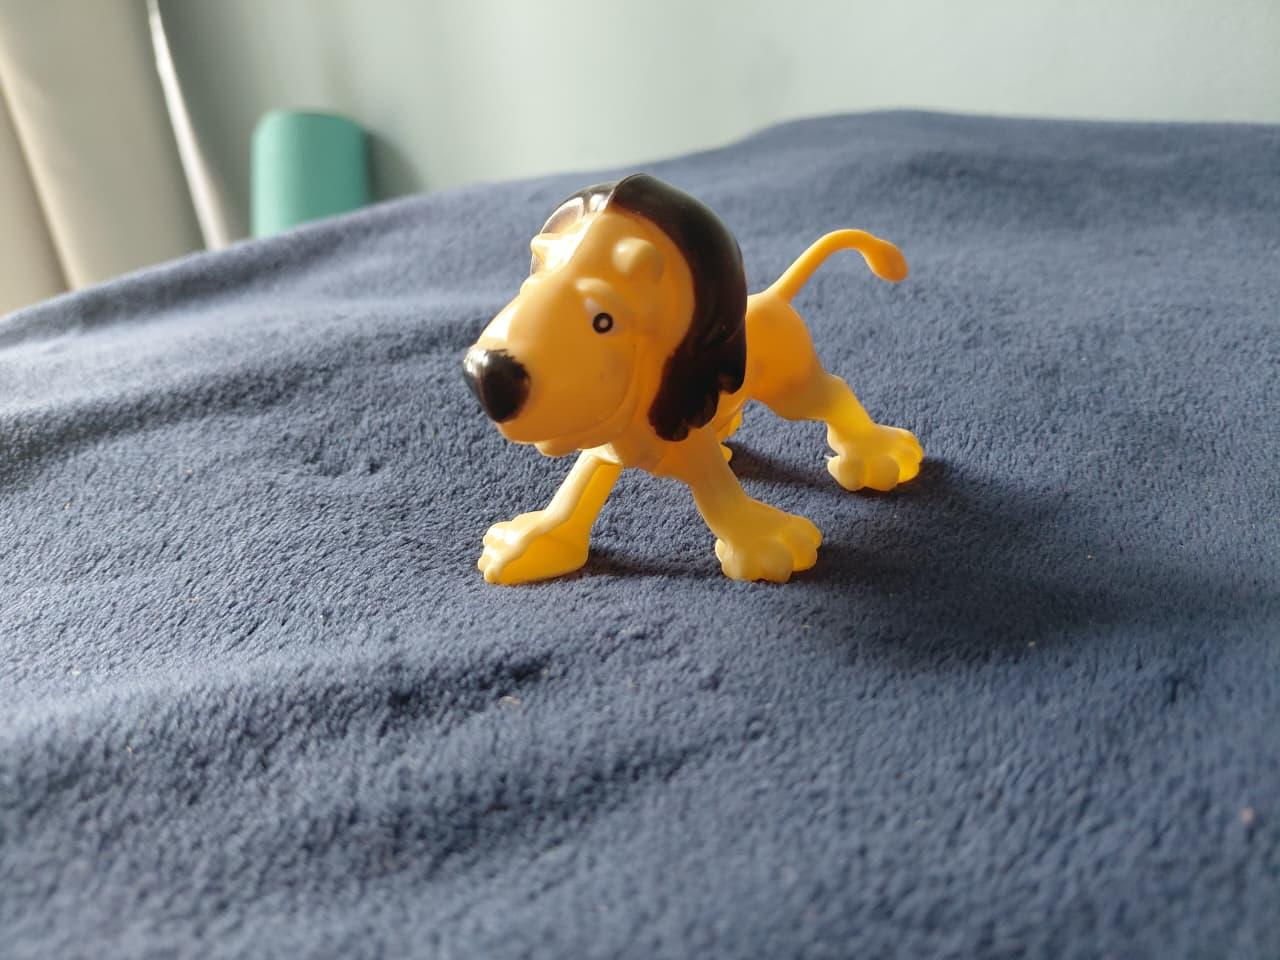lion: (449, 162, 948, 598)
